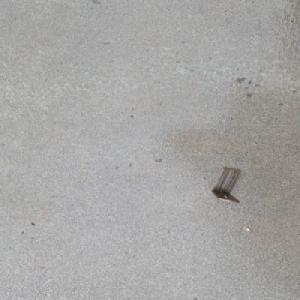MetalPart: (210, 167, 241, 202)
